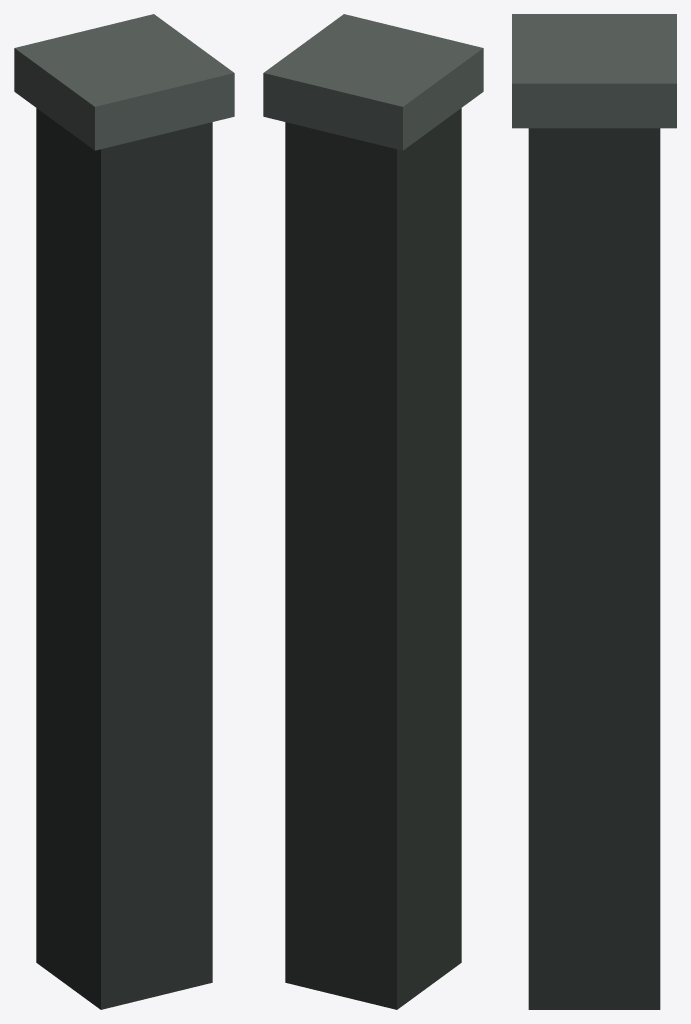
The model's file is SM_Railing_Newel.fbx.
3 renders of one model, left to right at view 1: azimuth 30°, elevation 25°; view 2: azimuth 150°, elevation 25°; view 3: azimuth 270°, elevation 25°, orthographic. The views are drawn at different scales.
Parts seen in each view (by area): view 1: SM_Railing_Newel; view 2: SM_Railing_Newel; view 3: SM_Railing_Newel.
Boxes of the visible parts, bbox=[...] form: SM_Railing_Newel: bbox=[14, 14, 234, 1009]; SM_Railing_Newel: bbox=[263, 14, 483, 1009]; SM_Railing_Newel: bbox=[512, 14, 676, 1009].
Bounding box in the file's own units: 0.2 × 1.25 × 0.2.
